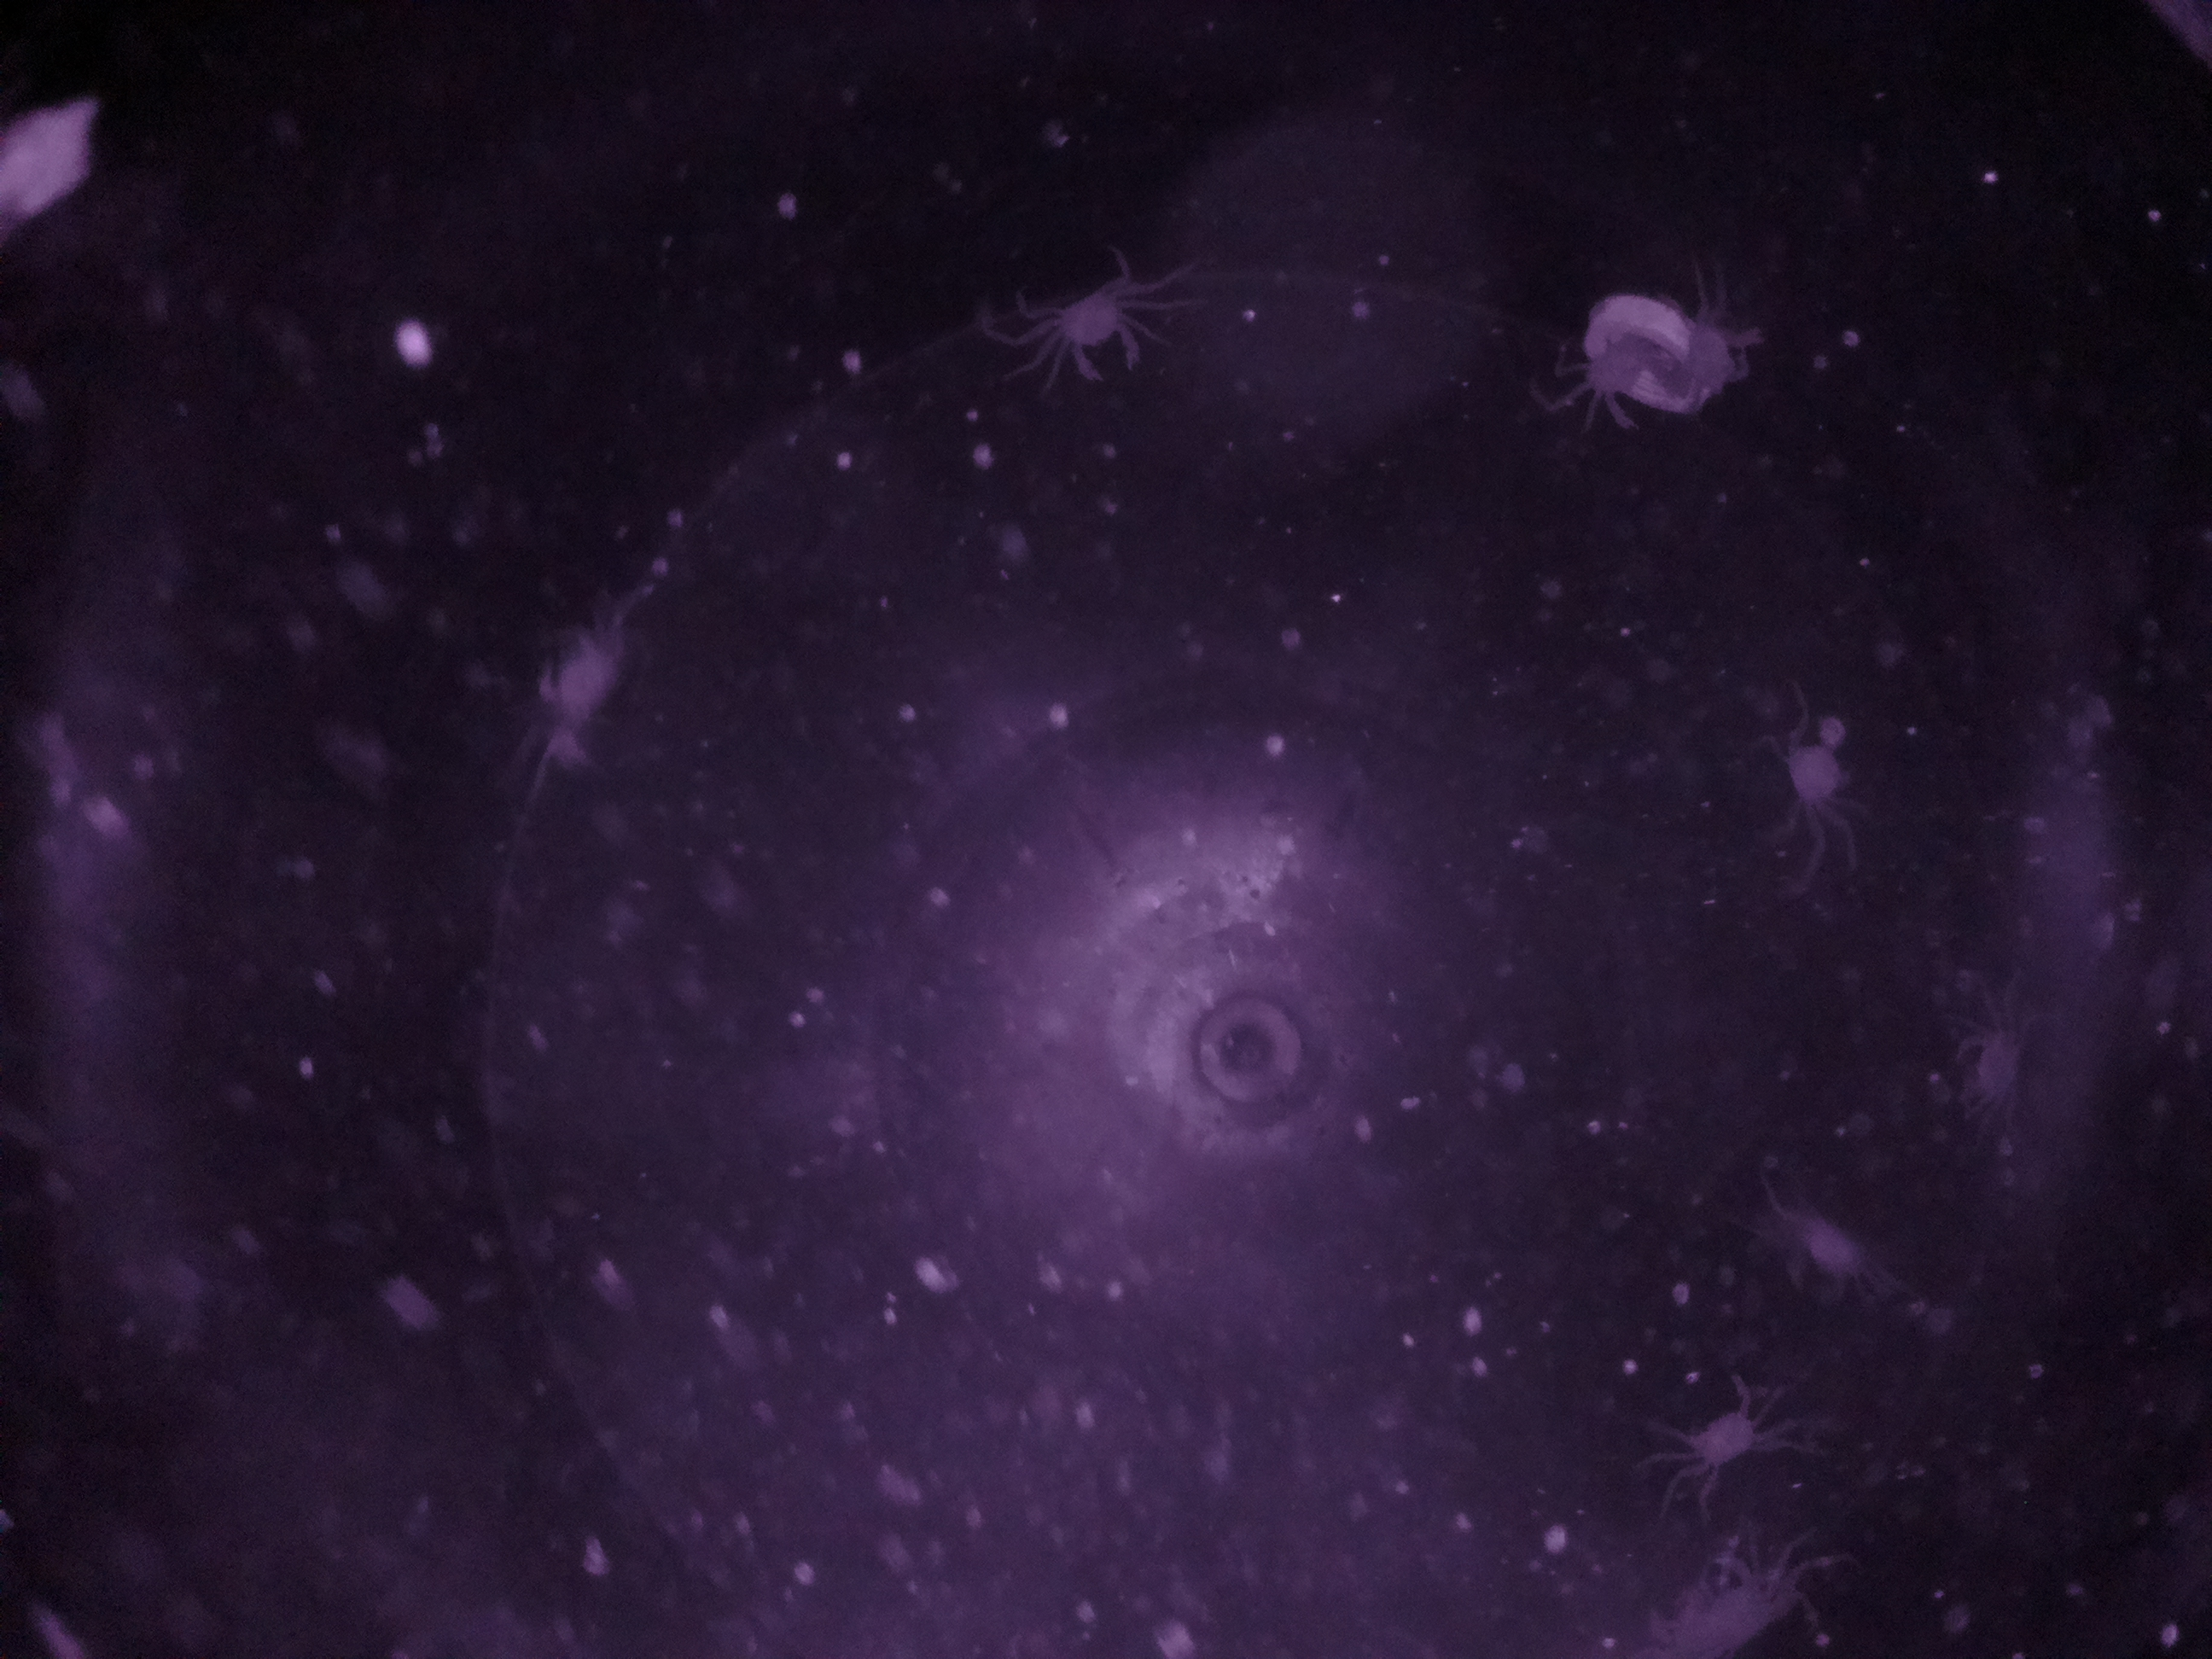Crab: (1028, 272, 1160, 394), (1677, 1380, 1787, 1506), (1742, 721, 1871, 819)
